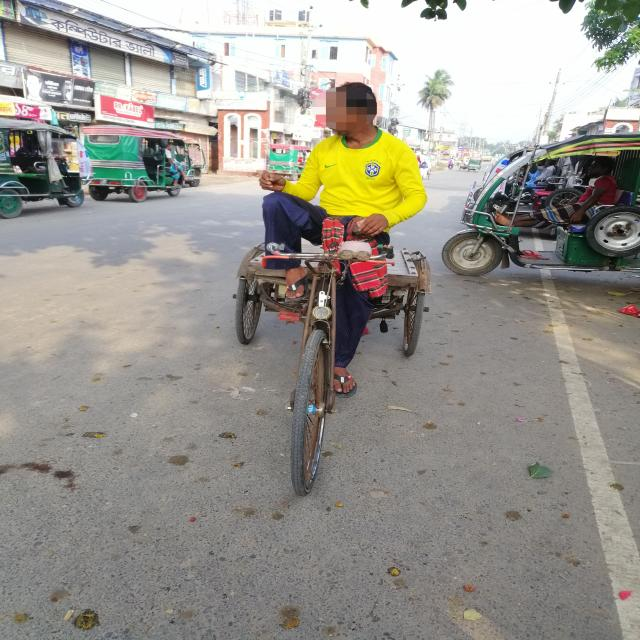Easybike: (441, 139, 640, 282)
Van: (218, 236, 444, 502)
